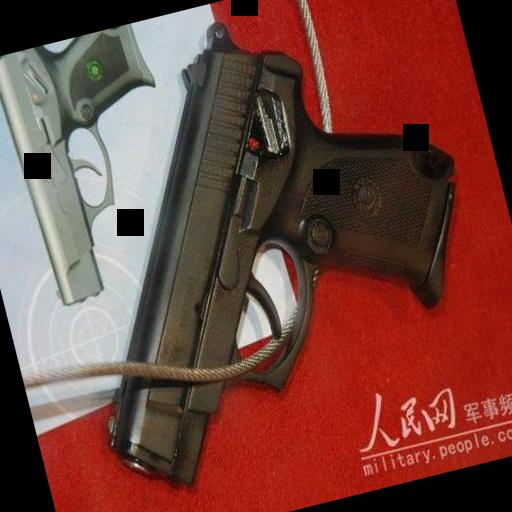Handgun: (11, 0, 512, 504), (0, 21, 202, 310)
